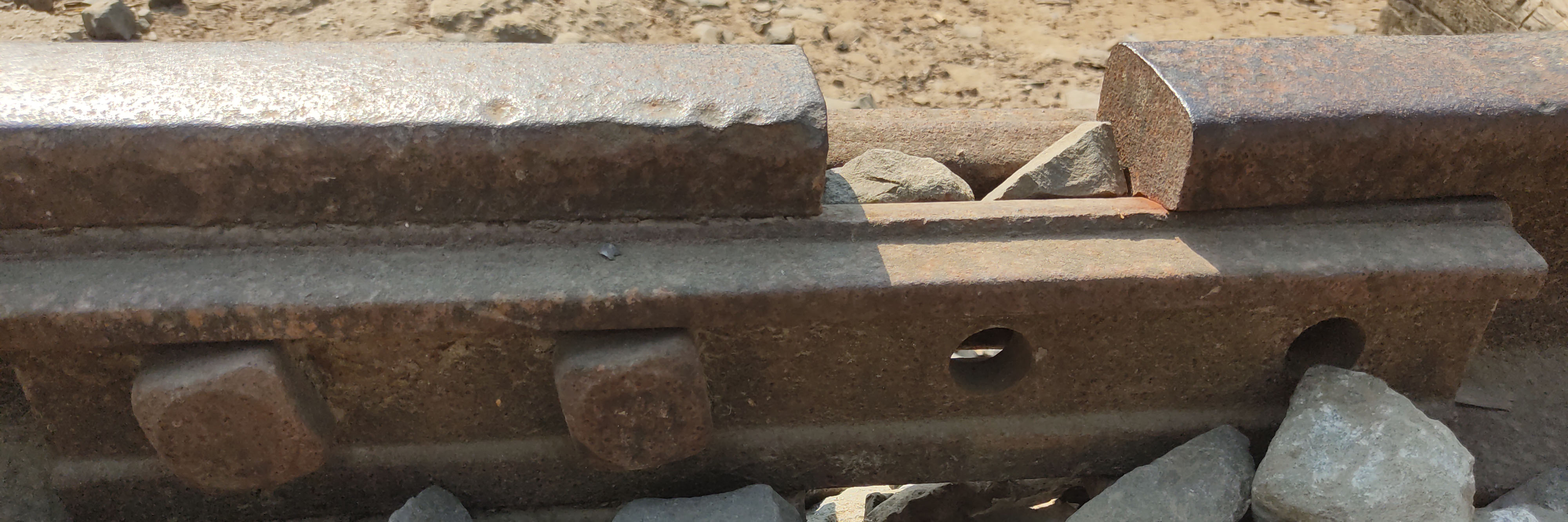duan lie: (785, 16, 1209, 243)
